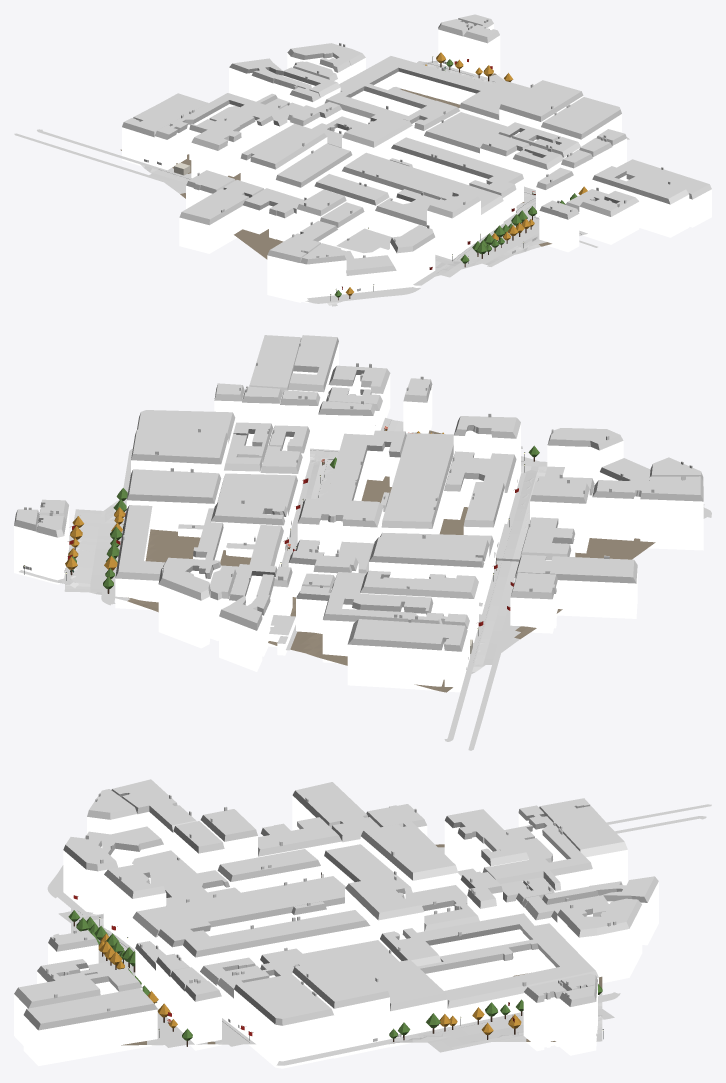
Rendered from zone_D2.glb.
3 renders of one model, top to bottom at view 1: azimuth 30°, elevation 25°; view 2: azimuth 150°, elevation 25°; view 3: azimuth 270°, elevation 25°, orthographic. The views are drawn at different scales.
Parts seen in each view (by area): view 1: zone_D2_batiments, zone_D2_sol_NOCOL, zone_D2_terrain, zone_D2_decor_NOCOL; view 2: zone_D2_batiments, zone_D2_sol_NOCOL, zone_D2_terrain, zone_D2_decor_NOCOL; view 3: zone_D2_batiments, zone_D2_sol_NOCOL, zone_D2_decor_NOCOL, zone_D2_terrain.
Part boxes in pixels (bbox=[...]): zone_D2_batiments: bbox=[122, 14, 711, 302]; zone_D2_sol_NOCOL: bbox=[14, 61, 629, 306]; zone_D2_terrain: bbox=[120, 60, 587, 305]; zone_D2_decor_NOCOL: bbox=[330, 52, 587, 300]; zone_D2_batiments: bbox=[14, 335, 703, 692]; zone_D2_sol_NOCOL: bbox=[64, 419, 711, 750]; zone_D2_terrain: bbox=[19, 418, 655, 692]; zone_D2_decor_NOCOL: bbox=[24, 431, 539, 635]; zone_D2_batiments: bbox=[14, 779, 658, 1068]; zone_D2_sol_NOCOL: bbox=[47, 804, 711, 1065]; zone_D2_decor_NOCOL: bbox=[68, 910, 603, 1046]; zone_D2_terrain: bbox=[71, 844, 602, 1045].
Size of the model in its own units: 258 by 34.13 by 276.
